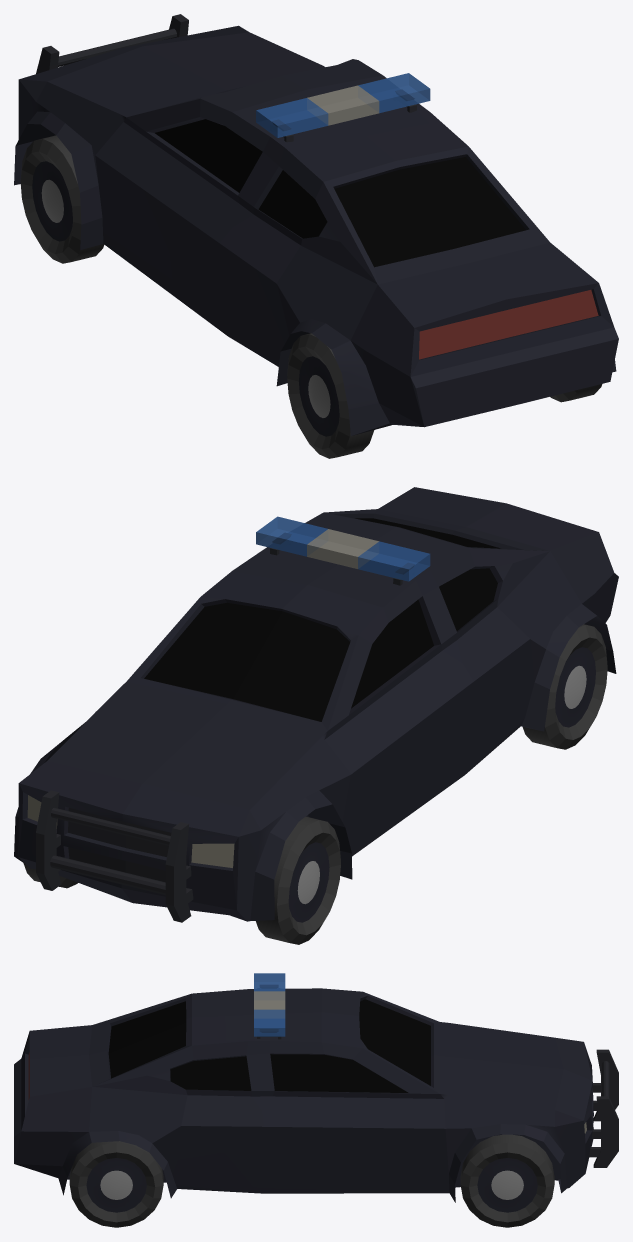
Rendered from gtpd_fbx.fbx.
The picture shows the model from 3 angles, top to bottom: view 1: azimuth 30°, elevation 25°; view 2: azimuth 150°, elevation 25°; view 3: azimuth 270°, elevation 25°; orthographic projection. The views are drawn at different scales.
Visible parts, largest first — view 1: left_half, right_half, wheel_top_left, wheel_bot_left, bar, bumper_itself; view 2: left_half, right_half, wheel_top_left, bumper_itself, wheel_bot_left, bar; view 3: right_half, left_half, wheel_top_right, wheel_bot_right, bumper_itself, bar.
Boxes of the visible parts, x1,y1,x2,y2 form: left_half: (14,46,517,435); right_half: (125,25,618,404); wheel_top_left: (20,135,104,263); wheel_bot_left: (287,333,374,458); bar: (256,73,430,137); bumper_itself: (36,14,188,73); left_half: (121,503,618,921); right_half: (14,487,506,902); wheel_top_left: (256,816,340,944); bumper_itself: (36,790,193,922); wheel_bot_left: (522,624,607,749); bar: (256,516,430,581); right_half: (14,1012,593,1202); left_half: (14,988,593,1129); wheel_top_right: (460,1134,554,1227); wheel_bot_right: (69,1141,163,1227); bumper_itself: (589,1049,618,1167); bar: (254,973,285,1036).
Size of the model in its own units: 8.39 by 7.29 by 22.03.
